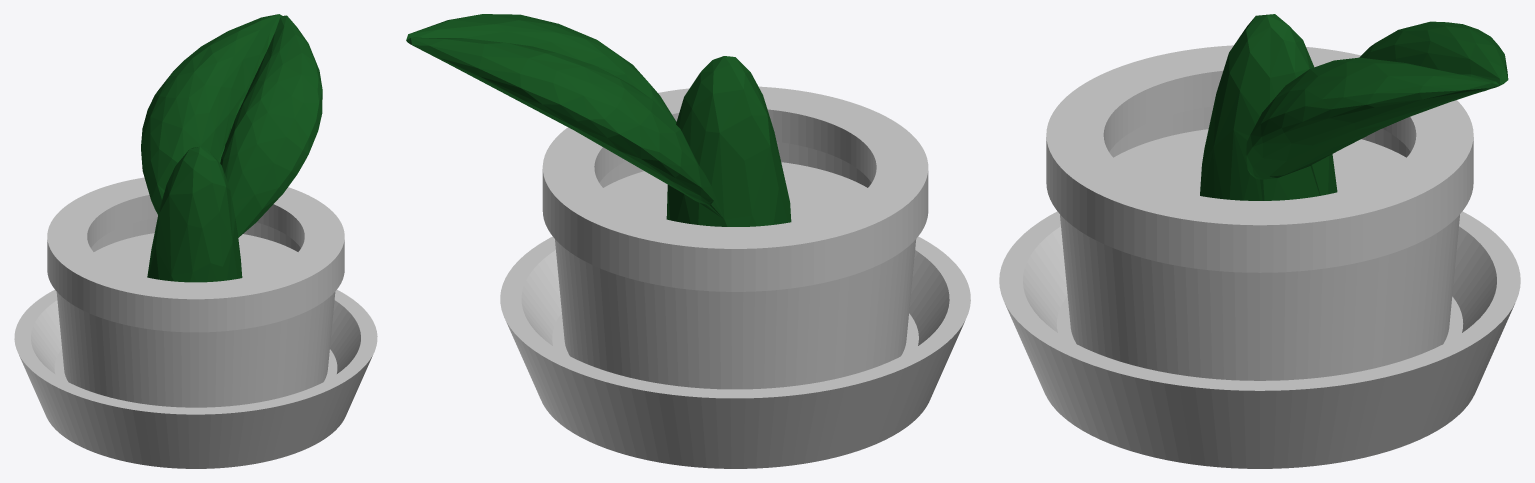
Rendered from vaso.obj.
The picture shows the model from 3 angles, left to right: view 1: azimuth 30°, elevation 25°; view 2: azimuth 150°, elevation 25°; view 3: azimuth 270°, elevation 25°; orthographic projection. The views are drawn at different scales.
Parts seen in each view (by area): view 1: Circle, PlantPrint_Stem.004; view 2: Circle, PlantPrint_Stem.004; view 3: Circle, PlantPrint_Stem.004.
Boxes of the visible parts, box(x1,y1,x2,y2) form: Circle: box(14, 177, 377, 468); PlantPrint_Stem.004: box(141, 14, 322, 282); Circle: box(500, 86, 970, 468); PlantPrint_Stem.004: box(406, 14, 791, 226); Circle: box(999, 45, 1520, 468); PlantPrint_Stem.004: box(1200, 14, 1508, 200).
Bounding box in the file's own units: 33.16 × 27.88 × 31.61.
